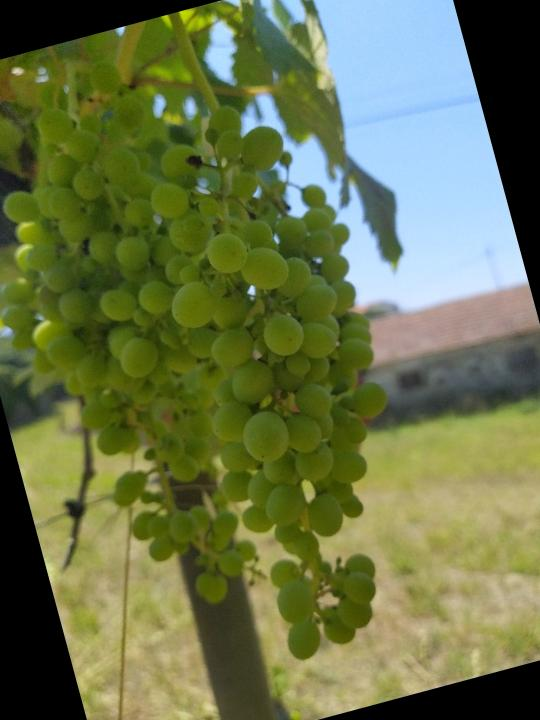grape: (0, 10, 457, 719)
